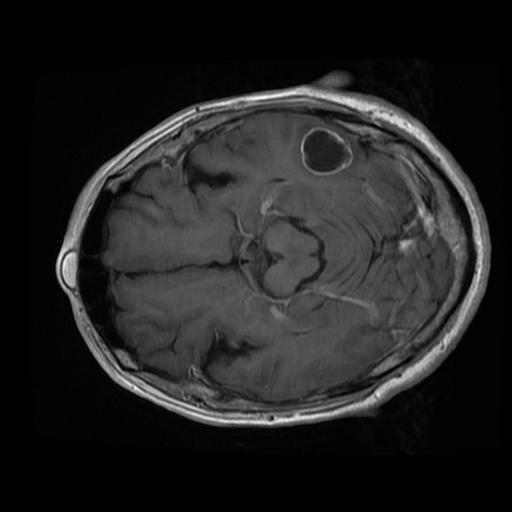glioma: (299, 127, 353, 176)
